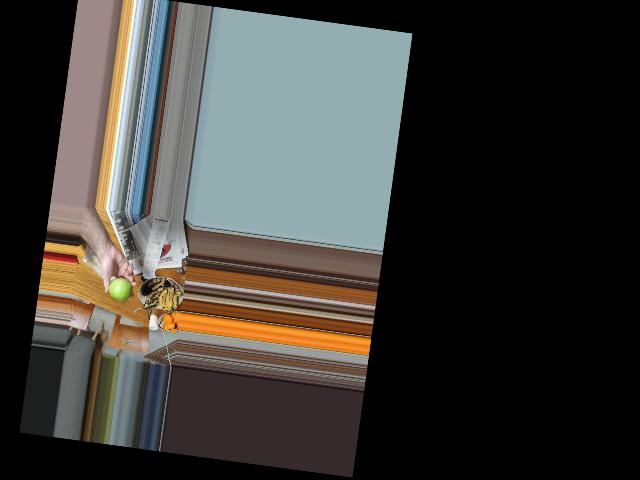apple: (107, 273, 135, 303)
